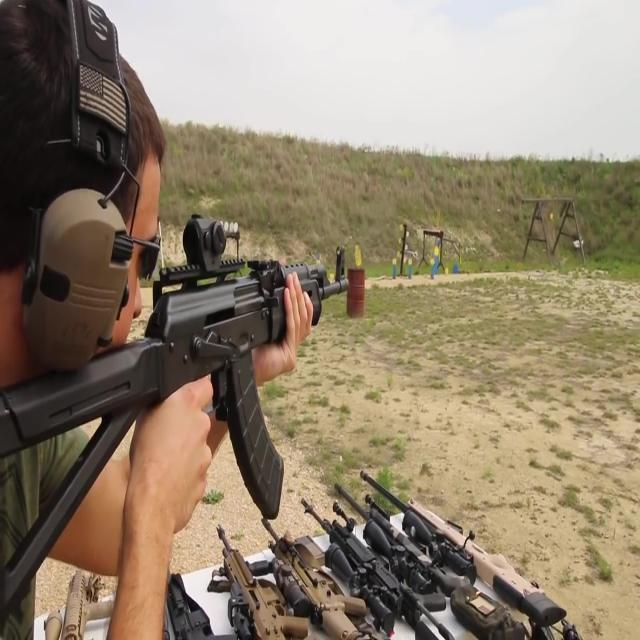Weapon: (0, 199, 348, 607), (31, 450, 604, 640)
